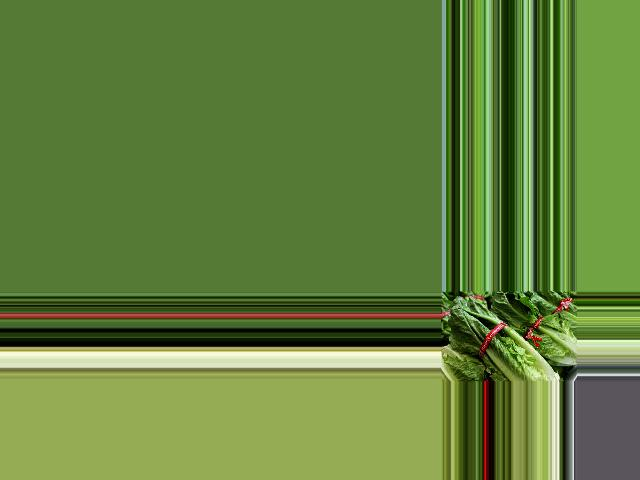lettuce: (447, 295, 558, 382)
